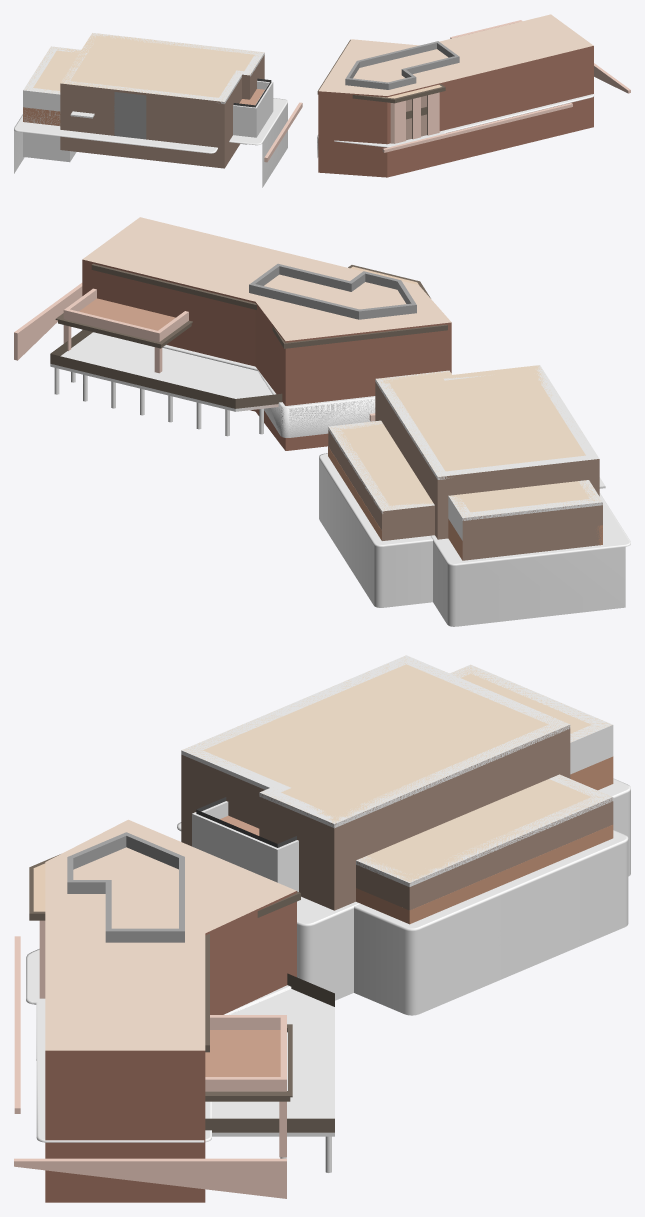
Rendered from restaurants_promenade.dae.
The picture shows the model from 3 angles, top to bottom: view 1: azimuth 30°, elevation 25°; view 2: azimuth 150°, elevation 25°; view 3: azimuth 270°, elevation 25°; orthographic projection. The views are drawn at different scales.
Parts seen in each view (by area): view 1: restaurants_promenade_a300, Colmesh-1; view 2: restaurants_promenade_a300, Colmesh-1, restaurants_promenade_a600; view 3: restaurants_promenade_a300, Colmesh-1.
Boxes of the visible parts, x1,y1,x2,y2 form: restaurants_promenade_a300: (23, 14, 593, 177); Colmesh-1: (14, 20, 630, 187); restaurants_promenade_a300: (82, 217, 602, 560); Colmesh-1: (14, 263, 630, 626); restaurants_promenade_a600: (260, 374, 375, 437); restaurants_promenade_a300: (45, 655, 613, 1202); Colmesh-1: (14, 655, 630, 1198).
Size of the model in its own units: 71.16 by 40.69 by 13.66.
